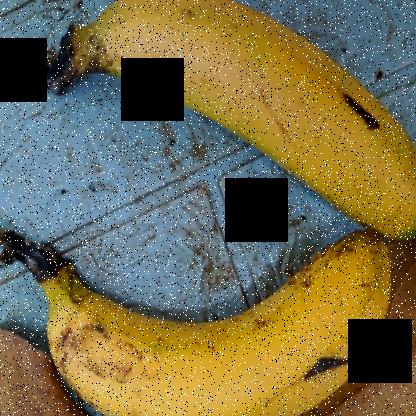freshripe: (99, 0, 415, 214)
ripe: (30, 234, 390, 415)
